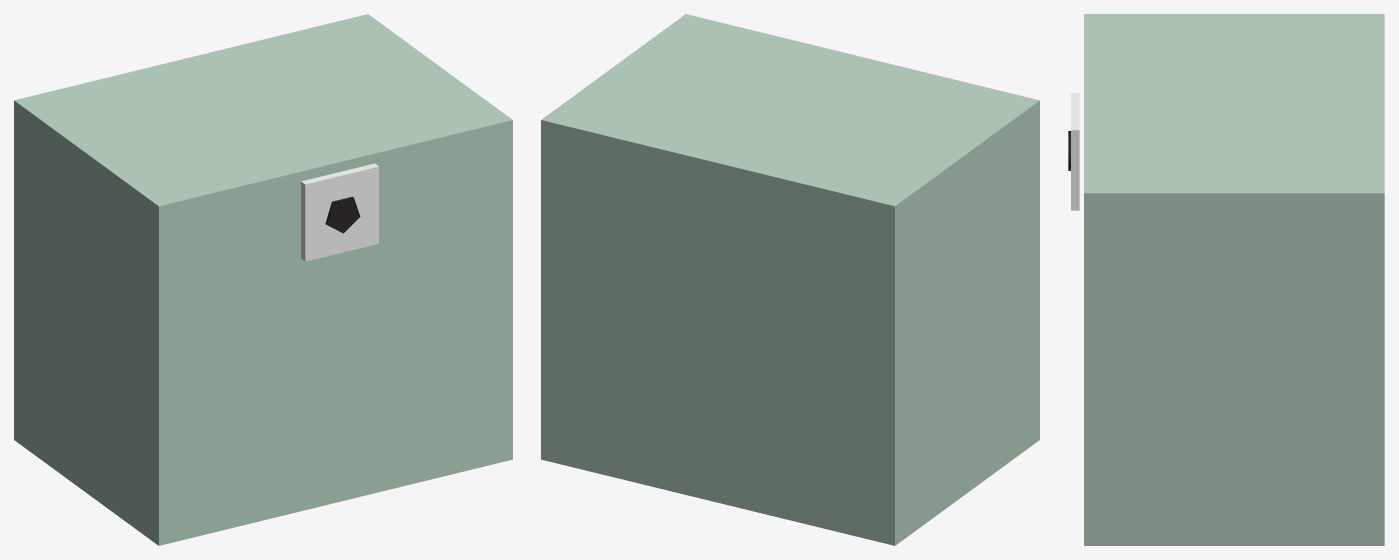
The model's file is petshop.glb.
The picture shows the model from 3 angles, left to right: view 1: azimuth 30°, elevation 25°; view 2: azimuth 150°, elevation 25°; view 3: azimuth 270°, elevation 25°; orthographic projection. The views are drawn at different scales.
Bounding box in the file's own units: 1.81 × 1.66 × 1.35.
